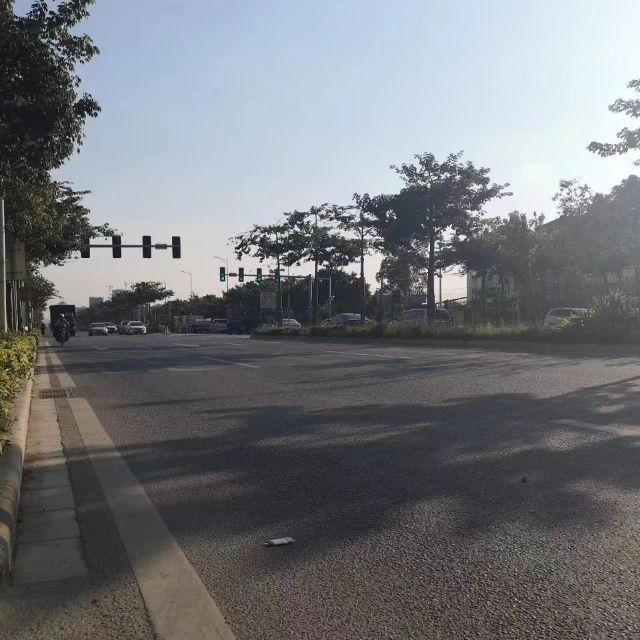curb: (13, 353, 86, 589), (263, 336, 639, 357), (0, 361, 34, 579)
